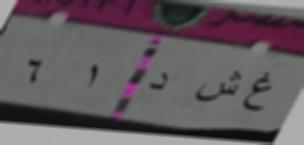1: (84, 60, 103, 92)
6: (24, 50, 45, 88)
daal: (147, 65, 171, 96)
ghayn: (242, 67, 274, 118)
sheen: (195, 66, 242, 108)
